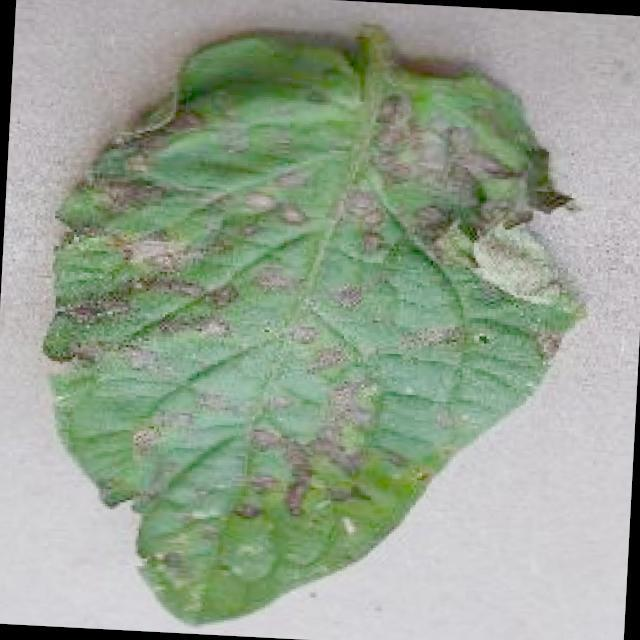Tomato Early blight leaf: (25, 10, 603, 640)
